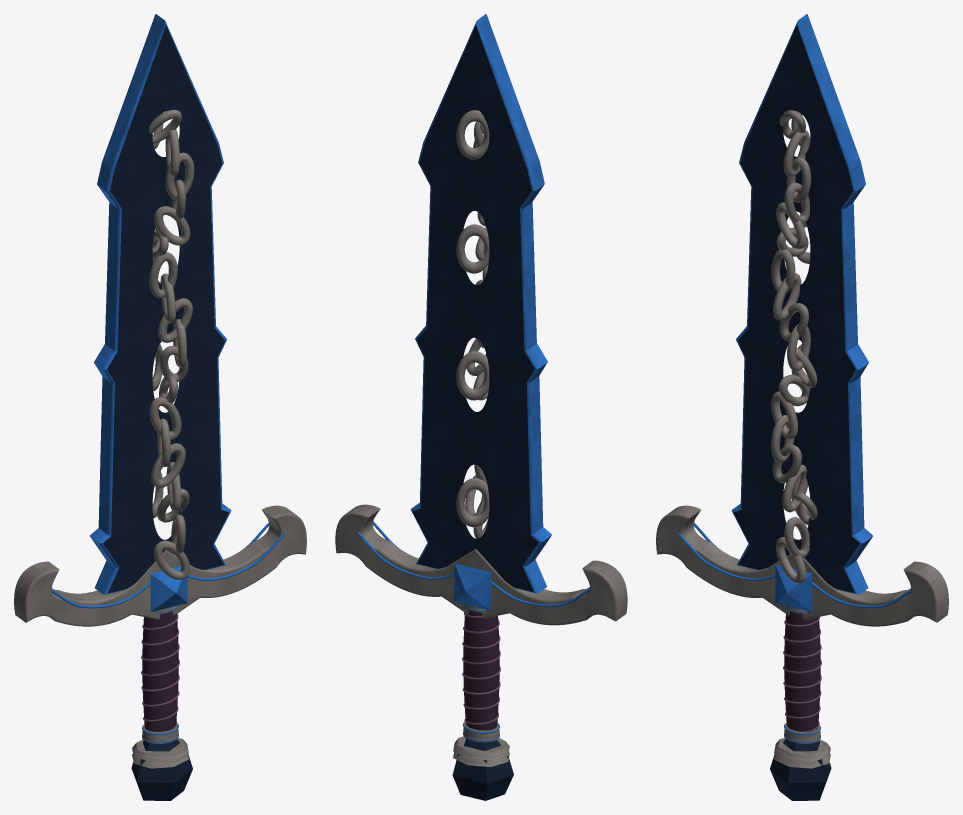
File: chainbound_sword.glb
3 views of the same model, side by side, from view 1: azimuth 30°, elevation 25°; view 2: azimuth 150°, elevation 25°; view 3: azimuth 330°, elevation 25° (orthographic).
Parts seen in each view (by area): view 1: chainbound_sword-forged-body, chainbound-worn-iron-hardware, chainbound_sword-honed-edge, chainbound_sword-grip-hide, chainbound_sword-wrap-overlap; view 2: chainbound_sword-forged-body, chainbound-worn-iron-hardware, chainbound_sword-honed-edge, chainbound_sword-grip-hide, chainbound_sword-wrap-overlap; view 3: chainbound_sword-forged-body, chainbound-worn-iron-hardware, chainbound_sword-honed-edge, chainbound_sword-grip-hide, chainbound_sword-wrap-overlap.
Part boxes in pixels (box(x1,y1,x2,y2)): chainbound_sword-forged-body: box(103, 25, 228, 800); chainbound-worn-iron-hardware: box(14, 109, 306, 768); chainbound_sword-honed-edge: box(51, 14, 284, 743); chainbound_sword-grip-hide: box(142, 611, 178, 731); chainbound_sword-wrap-overlap: box(141, 614, 179, 729); chainbound_sword-forged-body: box(413, 25, 538, 800); chainbound-worn-iron-hardware: box(335, 110, 627, 766); chainbound_sword-honed-edge: box(357, 14, 590, 741); chainbound_sword-grip-hide: box(463, 610, 499, 730); chainbound_sword-wrap-overlap: box(462, 612, 500, 724); chainbound_sword-forged-body: box(734, 25, 859, 800); chainbound-worn-iron-hardware: box(656, 110, 948, 768); chainbound_sword-honed-edge: box(678, 14, 911, 743); chainbound_sword-grip-hide: box(784, 611, 820, 731); chainbound_sword-wrap-overlap: box(783, 617, 821, 732).
Size of the model in its own units: 0.5809 by 1.54 by 0.1278.
Materials: 5 (5 with a texture image).
